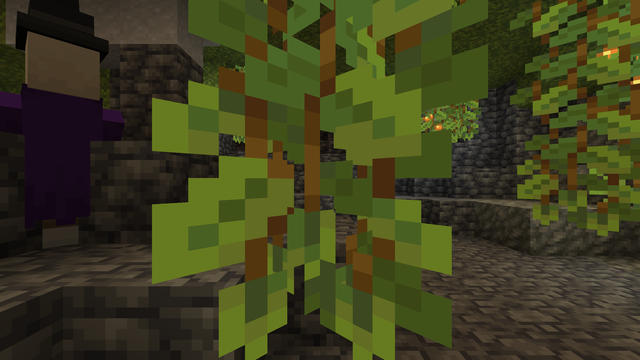sorcieres: (10, 24, 117, 251)
